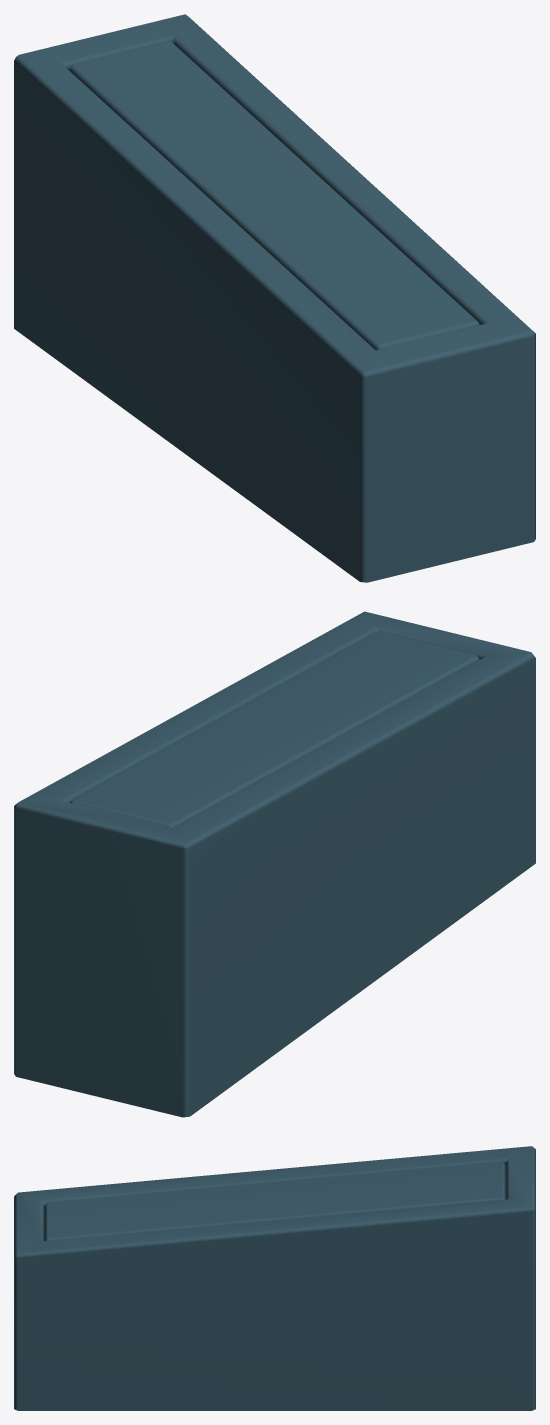
The model's file is basic_beat_block.glb.
The picture shows the model from 3 angles, top to bottom: view 1: azimuth 30°, elevation 25°; view 2: azimuth 150°, elevation 25°; view 3: azimuth 270°, elevation 25°; orthographic projection. The views are drawn at different scales.
Visible parts, largest first — view 1: beat_block; view 2: beat_block; view 3: beat_block.
Boxes of the visible parts, box(x1,y1,x2,y2) form: beat_block: box(14, 14, 535, 582); beat_block: box(14, 611, 535, 1117); beat_block: box(14, 1146, 535, 1410).
Size of the model in its own units: 0.5 by 0.7401 by 1.73.
